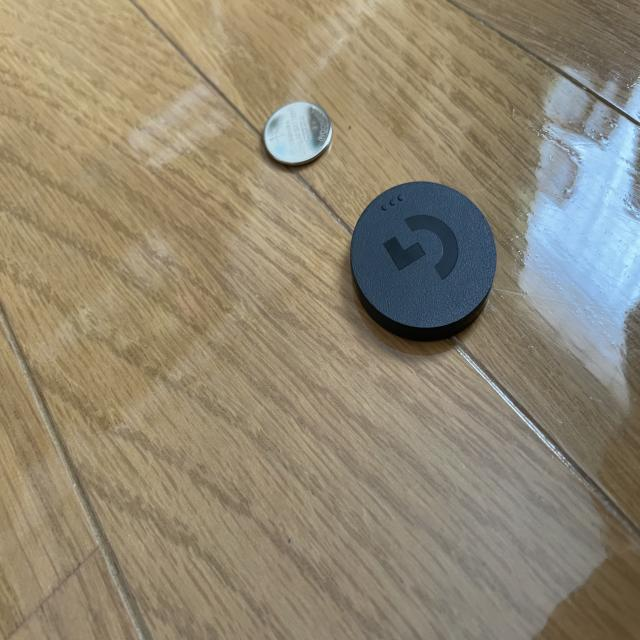COIN: (262, 102, 334, 166)
